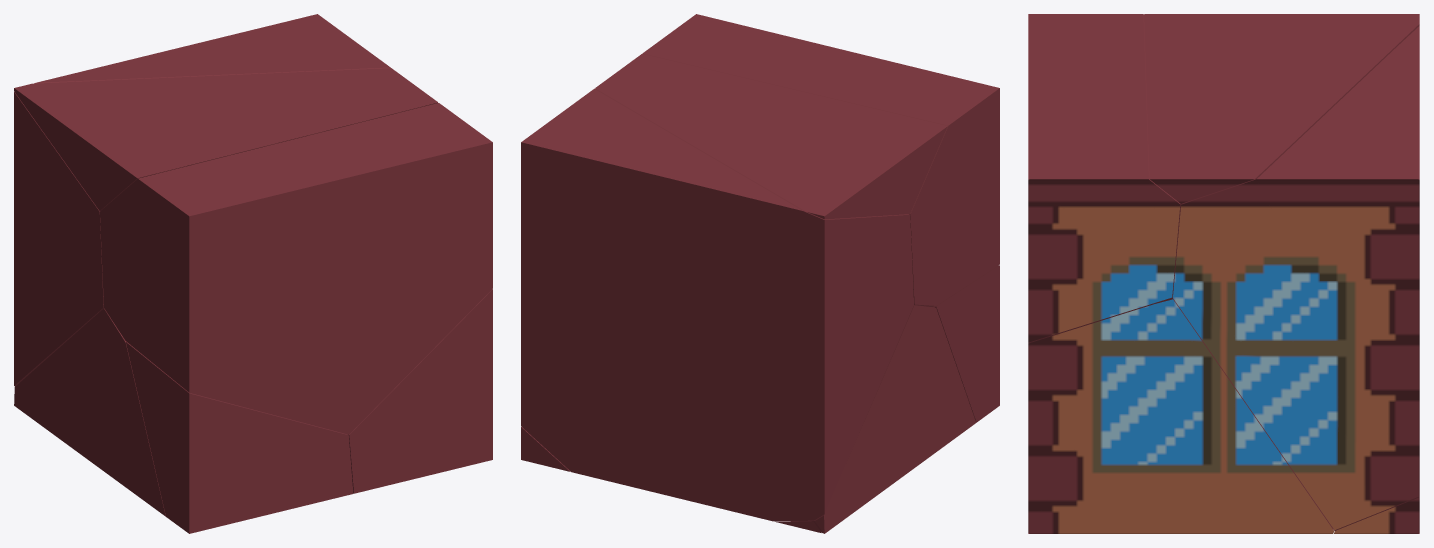
Rendered from BrickBuildingRed_2_128x128_Floor02_break.fbx.
3 renders of one model, left to right at view 1: azimuth 30°, elevation 25°; view 2: azimuth 150°, elevation 25°; view 3: azimuth 270°, elevation 25°, orthographic. The views are drawn at different scales.
Visible parts, largest first — view 1: Floor02Break01, Floor02Break07, Floor02Break05, Floor02Break02, Floor02Break08, Floor02Break04; view 2: Floor02Break05, Floor02Break07, Floor02Break01, Floor02Break04, Floor02Break02, Floor02Break03; view 3: Floor02Break05, Floor02Break08, Floor02Break01, Floor02Break07, Floor02Break03.
Part boxes in pixels (bbox=[...]): Floor02Break01: bbox=[100, 103, 492, 434]; Floor02Break07: bbox=[14, 68, 437, 210]; Floor02Break05: bbox=[14, 14, 390, 386]; Floor02Break02: bbox=[126, 342, 353, 533]; Floor02Break08: bbox=[348, 289, 492, 493]; Floor02Break04: bbox=[14, 308, 165, 516]; Floor02Break05: bbox=[521, 88, 913, 521]; Floor02Break07: bbox=[595, 54, 947, 219]; Floor02Break01: bbox=[642, 14, 999, 306]; Floor02Break04: bbox=[799, 305, 976, 533]; Floor02Break02: bbox=[932, 265, 999, 422]; Floor02Break03: bbox=[521, 427, 570, 471]; Floor02Break05: bbox=[1173, 24, 1419, 530]; Floor02Break08: bbox=[1028, 299, 1333, 533]; Floor02Break01: bbox=[1028, 14, 1181, 343]; Floor02Break07: bbox=[1144, 14, 1419, 203]; Floor02Break03: bbox=[1334, 497, 1419, 533].
Size of the model in its own units: 100 by 100 by 100.
1 material, 1 textured.
